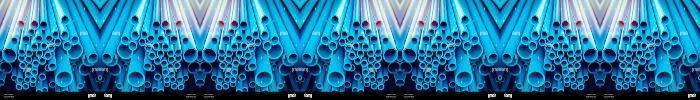pipe: (328, 72, 344, 87), (256, 72, 272, 87), (456, 72, 472, 87), (128, 72, 144, 87), (528, 72, 544, 87), (56, 72, 72, 87), (656, 72, 672, 87), (318, 43, 332, 59), (268, 43, 282, 59), (468, 43, 482, 59), (118, 43, 132, 59), (518, 43, 532, 59), (68, 43, 82, 59), (668, 43, 682, 59), (384, 48, 398, 62), (202, 48, 216, 62), (402, 48, 416, 62), (184, 48, 198, 62), (584, 48, 598, 62), (2, 48, 16, 62), (602, 48, 616, 62), (308, 63, 320, 75), (280, 63, 292, 75), (480, 63, 492, 75), (108, 63, 120, 75), (508, 63, 520, 75), (80, 63, 92, 75), (680, 63, 692, 75), (388, 62, 399, 73), (201, 62, 212, 73), (401, 62, 412, 73), (188, 62, 199, 73), (588, 62, 599, 73), (1, 62, 12, 73), (601, 62, 612, 73), (303, 53, 312, 63), (288, 53, 297, 63), (488, 53, 497, 63), (103, 53, 112, 63), (503, 53, 512, 63), (88, 53, 97, 63), (688, 53, 697, 63), (331, 16, 339, 25), (331, 31, 339, 40), (261, 16, 269, 25), (461, 16, 469, 25), (131, 16, 139, 25), (531, 16, 539, 25), (61, 16, 69, 25), (661, 16, 669, 25), (261, 31, 269, 40), (461, 31, 469, 40), (131, 31, 139, 40), (531, 31, 539, 40), (61, 31, 69, 40), (661, 31, 669, 40), (321, 36, 329, 44), (329, 42, 337, 50), (370, 36, 378, 44), (271, 36, 279, 44), (471, 36, 479, 44), (121, 36, 129, 44), (521, 36, 529, 44), (71, 36, 79, 44), (671, 36, 679, 44), (263, 42, 271, 50), (463, 42, 471, 50), (129, 42, 137, 50), (529, 42, 537, 50), (63, 42, 71, 50), (663, 42, 671, 50), (222, 36, 230, 44), (422, 36, 430, 44), (170, 36, 178, 44), (570, 36, 578, 44), (22, 36, 30, 44), (622, 36, 630, 44), (362, 20, 369, 29), (231, 20, 238, 29), (431, 20, 438, 29), (162, 20, 169, 29), (562, 20, 569, 29), (31, 20, 38, 29), (631, 20, 638, 29), (353, 21, 360, 29), (376, 20, 383, 28), (344, 63, 352, 70), (240, 21, 247, 29), (440, 21, 447, 29), (153, 21, 160, 29), (553, 21, 560, 29), (40, 21, 47, 29), (640, 21, 647, 29), (217, 20, 224, 28), (417, 20, 424, 28), (176, 20, 183, 28), (576, 20, 583, 28), (17, 20, 24, 28), (617, 20, 624, 28), (248, 63, 256, 70), (448, 63, 456, 70), (144, 63, 152, 70), (544, 63, 552, 70), (48, 63, 56, 70), (648, 63, 656, 70), (341, 31, 348, 38), (362, 44, 369, 51), (252, 31, 259, 38), (452, 31, 459, 38), (141, 31, 148, 38), (541, 31, 548, 38), (52, 31, 59, 38), (652, 31, 659, 38), (231, 44, 238, 51), (431, 44, 438, 51), (162, 44, 169, 51), (562, 44, 569, 51), (31, 44, 38, 51), (631, 44, 638, 51), (348, 35, 354, 42), (345, 44, 351, 51), (353, 43, 359, 50), (358, 36, 364, 43), (382, 38, 389, 44), (358, 50, 364, 57), (344, 82, 351, 88), (246, 35, 252, 42), (446, 35, 452, 42), (148, 35, 154, 42), (548, 35, 554, 42), (46, 35, 52, 42), (646, 35, 652, 42), (249, 44, 255, 51), (449, 44, 455, 51), (145, 44, 151, 51), (545, 44, 551, 51), (49, 44, 55, 51), (649, 44, 655, 51), (241, 43, 247, 50), (441, 43, 447, 50), (153, 43, 159, 50), (553, 43, 559, 50), (41, 43, 47, 50), (641, 43, 647, 50), (236, 36, 242, 43), (436, 36, 442, 43), (158, 36, 164, 43), (558, 36, 564, 43), (36, 36, 42, 43), (636, 36, 642, 43), (211, 38, 218, 44), (411, 38, 418, 44), (182, 38, 189, 44), (582, 38, 589, 44), (11, 38, 18, 44), (611, 38, 618, 44), (236, 50, 242, 57), (436, 50, 442, 57), (158, 50, 164, 57), (558, 50, 564, 57), (36, 50, 42, 57), (636, 50, 642, 57), (249, 82, 256, 88), (449, 82, 456, 88), (144, 82, 151, 88), (544, 82, 551, 88), (49, 82, 56, 88), (649, 82, 656, 88), (339, 39, 345, 45), (365, 29, 371, 35), (349, 53, 355, 59), (355, 58, 361, 64), (361, 60, 367, 66), (368, 50, 374, 56), (255, 39, 261, 45), (455, 39, 461, 45), (139, 39, 145, 45), (539, 39, 545, 45), (55, 39, 61, 45), (655, 39, 661, 45), (229, 29, 235, 35), (429, 29, 435, 35), (165, 29, 171, 35), (565, 29, 571, 35), (29, 29, 35, 35), (629, 29, 635, 35), (245, 53, 251, 59), (445, 53, 451, 59), (149, 53, 155, 59), (549, 53, 555, 59), (45, 53, 51, 59), (645, 53, 651, 59), (239, 58, 245, 64), (439, 58, 445, 64), (155, 58, 161, 64), (555, 58, 561, 64), (39, 58, 45, 64), (639, 58, 645, 64), (233, 60, 239, 66), (433, 60, 439, 66), (161, 60, 167, 66), (561, 60, 567, 66), (33, 60, 39, 66), (633, 60, 639, 66), (226, 50, 232, 56), (426, 50, 432, 56), (168, 50, 174, 56), (568, 50, 574, 56), (26, 50, 32, 56), (626, 50, 632, 56), (376, 49, 381, 56), (219, 49, 224, 56), (419, 49, 424, 56), (176, 49, 181, 56), (576, 49, 581, 56), (19, 49, 24, 56), (619, 49, 624, 56), (369, 57, 374, 63), (374, 63, 380, 68), (355, 74, 360, 80), (226, 57, 231, 63), (426, 57, 431, 63), (169, 57, 174, 63), (569, 57, 574, 63), (26, 57, 31, 63), (626, 57, 631, 63), (220, 63, 226, 68), (420, 63, 426, 68), (174, 63, 180, 68), (574, 63, 580, 68), (20, 63, 26, 68), (620, 63, 626, 68), (240, 74, 245, 80), (440, 74, 445, 80), (155, 74, 160, 80), (555, 74, 560, 80), (40, 74, 45, 80), (640, 74, 645, 80), (317, 84, 322, 89), (323, 64, 328, 69), (376, 56, 381, 61), (368, 64, 373, 69), (363, 70, 368, 75), (371, 84, 376, 89), (278, 84, 283, 89), (478, 84, 483, 89), (117, 84, 122, 89), (517, 84, 522, 89), (78, 84, 83, 89), (678, 84, 683, 89), (272, 64, 277, 69), (472, 64, 477, 69), (123, 64, 128, 69), (523, 64, 528, 69), (72, 64, 77, 69), (672, 64, 677, 69), (219, 56, 224, 61), (419, 56, 424, 61), (176, 56, 181, 61), (576, 56, 581, 61), (19, 56, 24, 61), (619, 56, 624, 61), (227, 64, 232, 69), (427, 64, 432, 69), (168, 64, 173, 69), (568, 64, 573, 69), (27, 64, 32, 69), (627, 64, 632, 69), (232, 70, 237, 75), (432, 70, 437, 75), (163, 70, 168, 75), (563, 70, 568, 75), (32, 70, 37, 75), (632, 70, 637, 75), (224, 84, 229, 89), (424, 84, 429, 89), (171, 84, 176, 89), (571, 84, 576, 89), (24, 84, 29, 89), (624, 84, 629, 89), (369, 72, 374, 76), (365, 77, 369, 82), (365, 81, 369, 86), (378, 77, 382, 82), (383, 76, 388, 80), (226, 72, 231, 76), (426, 72, 431, 76), (169, 72, 174, 76), (569, 72, 574, 76), (26, 72, 31, 76), (626, 72, 631, 76), (231, 77, 235, 82), (431, 77, 435, 82), (165, 77, 169, 82), (565, 77, 569, 82), (31, 77, 35, 82), (631, 77, 635, 82), (231, 81, 235, 86), (431, 81, 435, 86), (165, 81, 169, 86), (565, 81, 569, 86), (31, 81, 35, 86), (631, 81, 635, 86), (218, 77, 222, 82), (418, 77, 422, 82), (178, 77, 182, 82), (578, 77, 582, 82), (18, 77, 22, 82), (618, 77, 622, 82), (212, 76, 217, 80), (412, 76, 417, 80), (183, 76, 188, 80), (583, 76, 588, 80), (12, 76, 17, 80), (612, 76, 617, 80), (371, 78, 375, 82), (379, 85, 383, 89), (225, 78, 229, 82), (425, 78, 429, 82), (171, 78, 175, 82), (571, 78, 575, 82), (25, 78, 29, 82), (625, 78, 629, 82), (217, 85, 221, 89), (417, 85, 421, 89), (179, 85, 183, 89), (579, 85, 583, 89), (17, 85, 21, 89), (617, 85, 621, 89)
